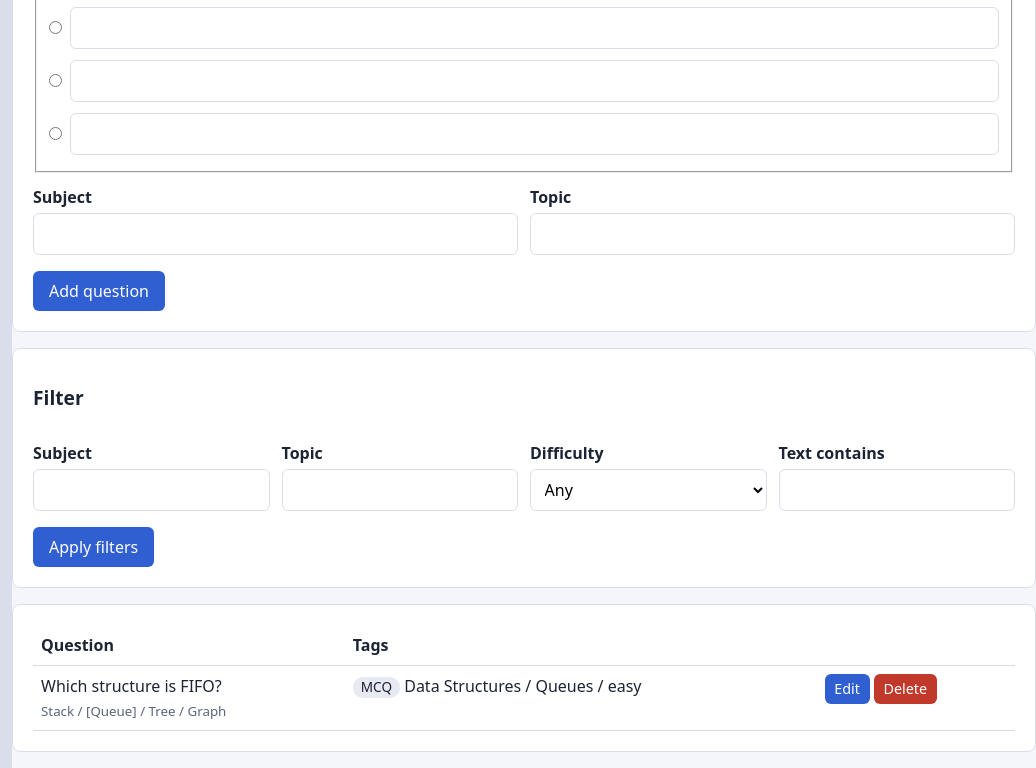
TC-QB-04 edit and delete (CSMQP-F-023) › edit loads the question into the form and saves with PUT
(page scrolled)
Click the button "Edit".
click(847, 689)  # box [825,674,870,704]
(page scrolled)
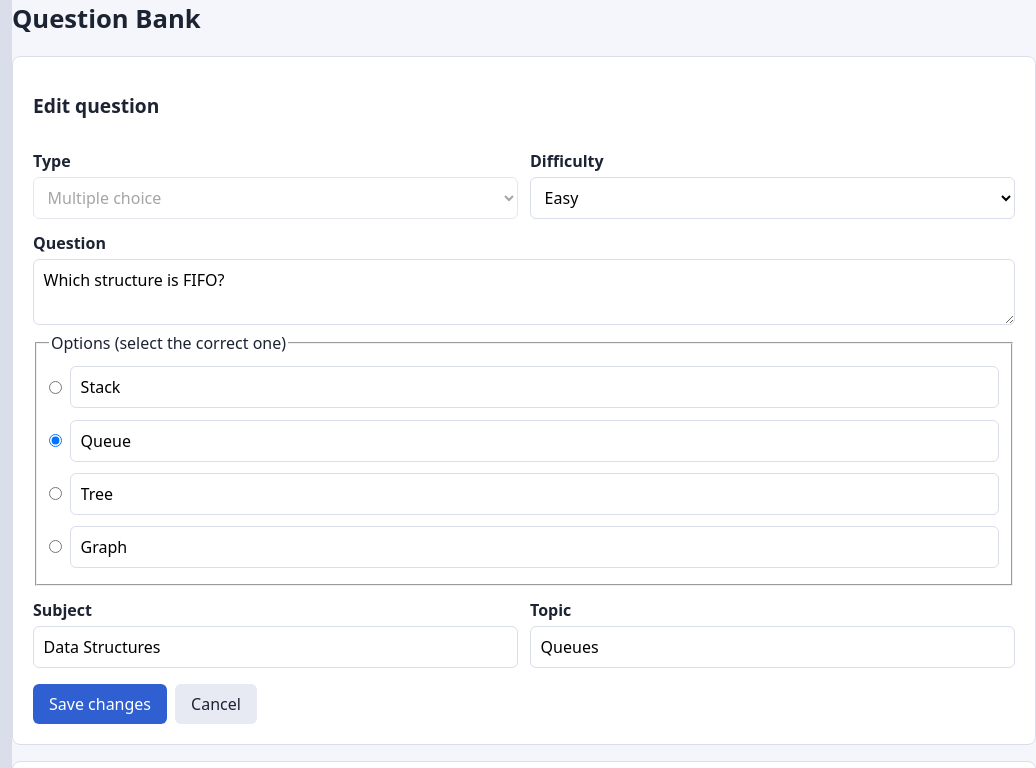
Now the text box labelled "Question" holds "Which structure is FIFO?"
Replace the text in the text box labelled "Question" with "Updated?" at (524, 292), box [33,259,1015,325]
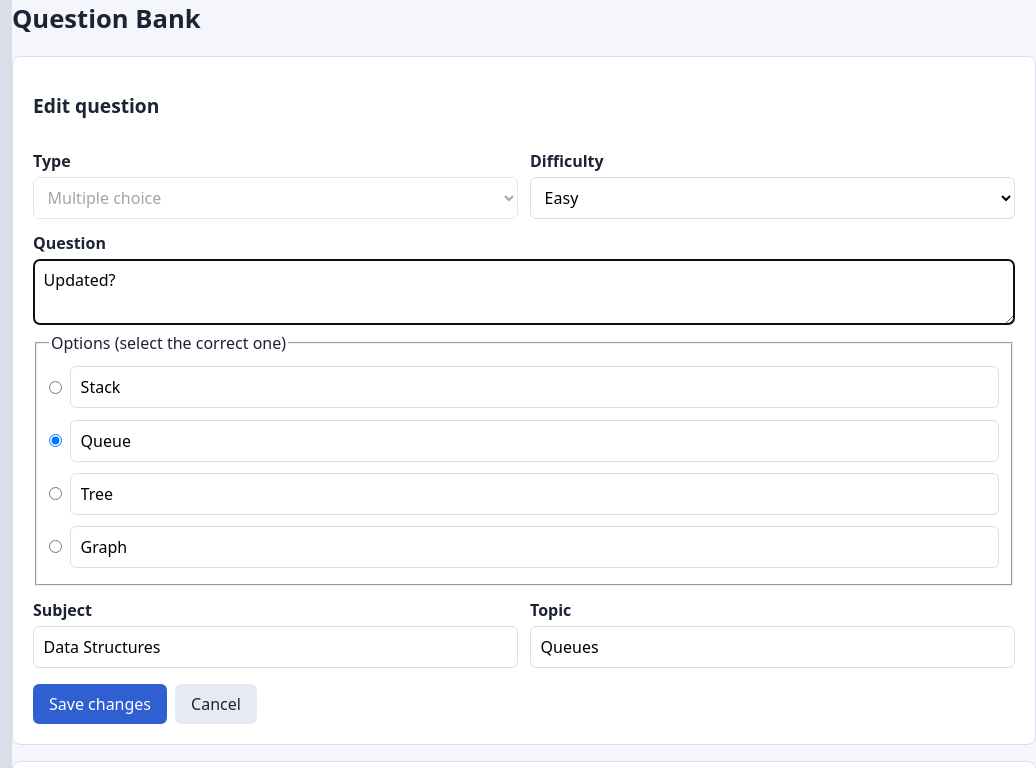
Click the button "Save changes".
click(100, 704)  # box [33,684,167,724]
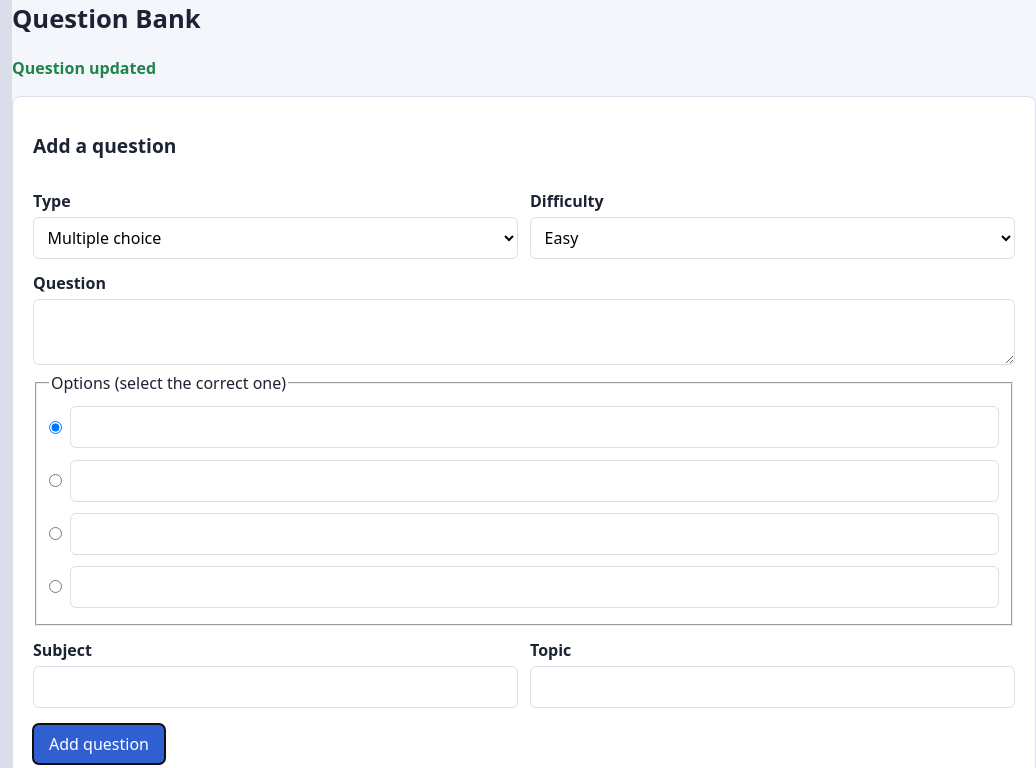
Now the message reads "Question updated", box [12,56,156,78]
